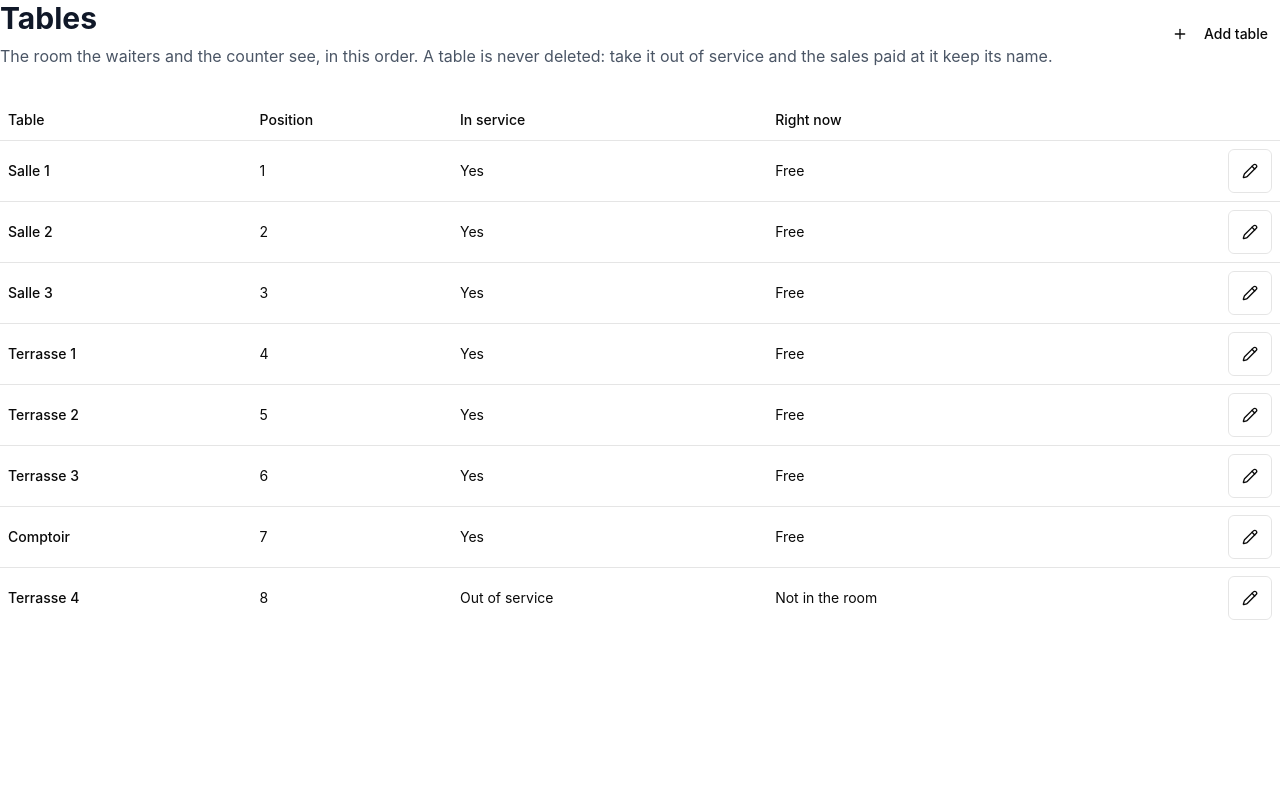
it: the admin’s tables › renames a table, moves it and takes it out of service
expect the text "Salle 1" is shown: met, box [0, 140, 252, 201]
Step 1. Click the button named "Edit Salle 2" → coordinates (1250, 232), box [1228, 210, 1272, 254]
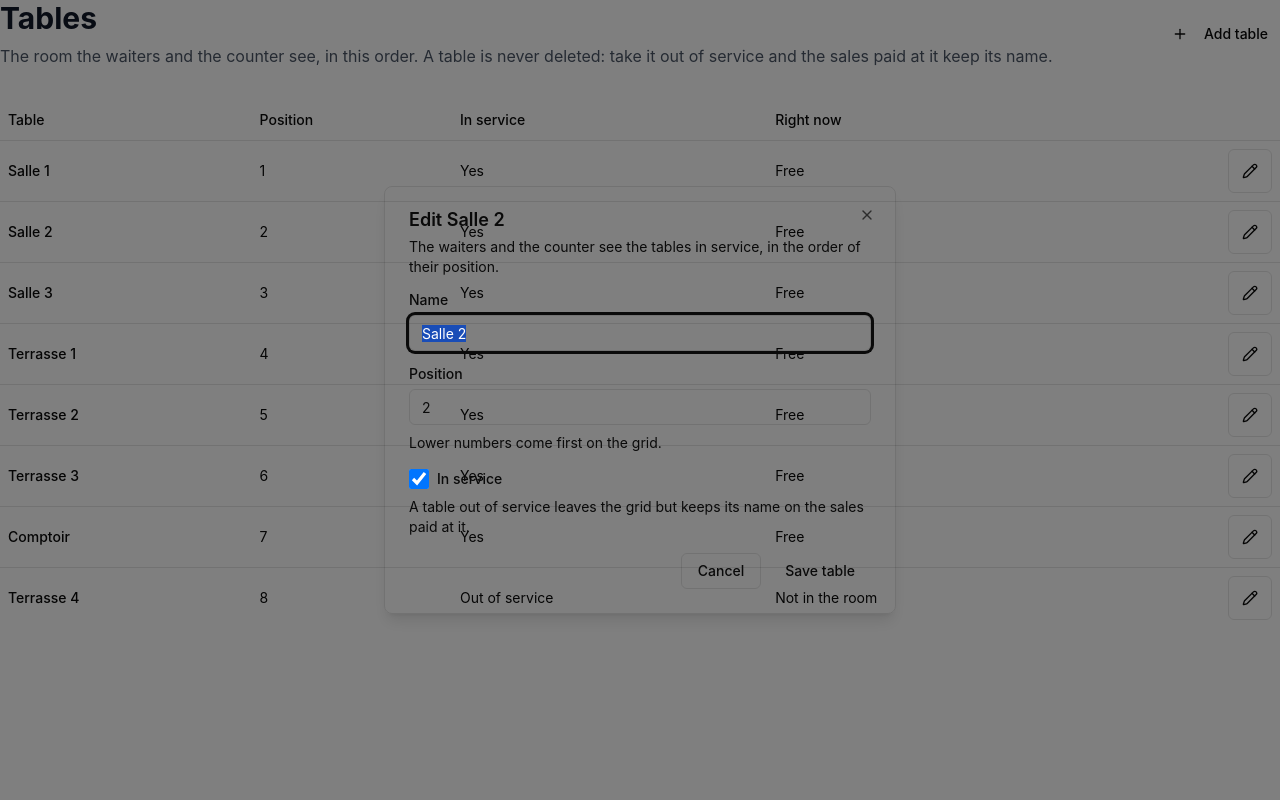
Step 2. Replace the text in the field labelled "Name" with "Mezzanine" → coordinates (640, 333), box [409, 315, 871, 351]
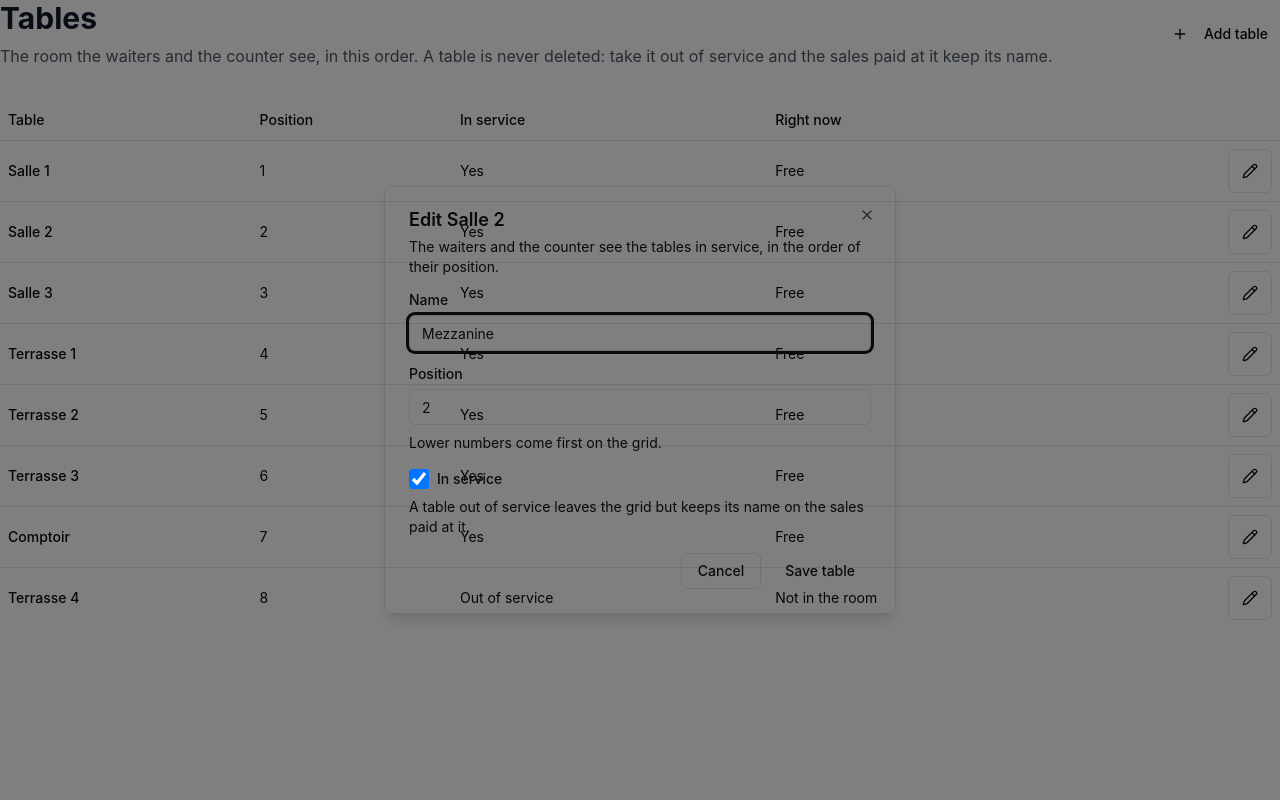
Step 3. Replace the text in the field labelled "Position" with "20" → coordinates (640, 407), box [409, 389, 871, 425]
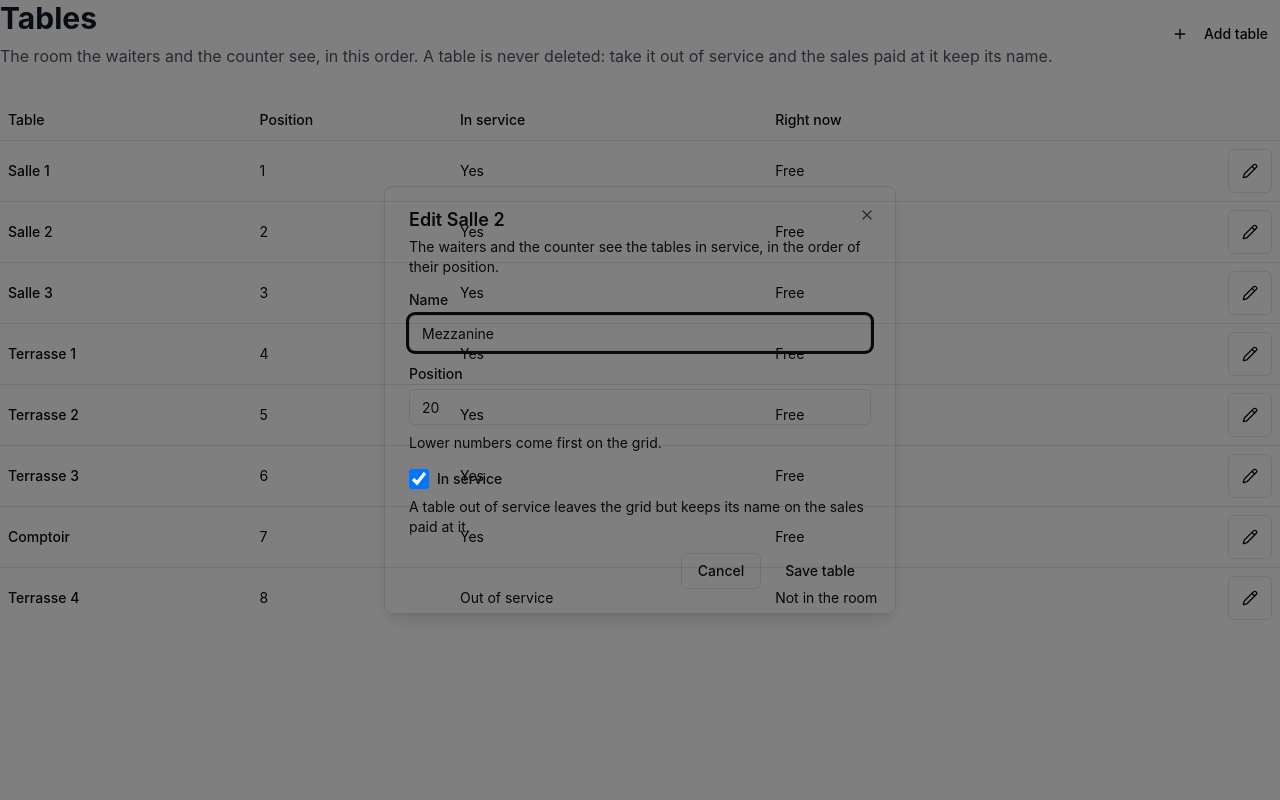
Step 4. Click the checkbox labelled "In service" → coordinates (419, 479), box [409, 469, 429, 489]
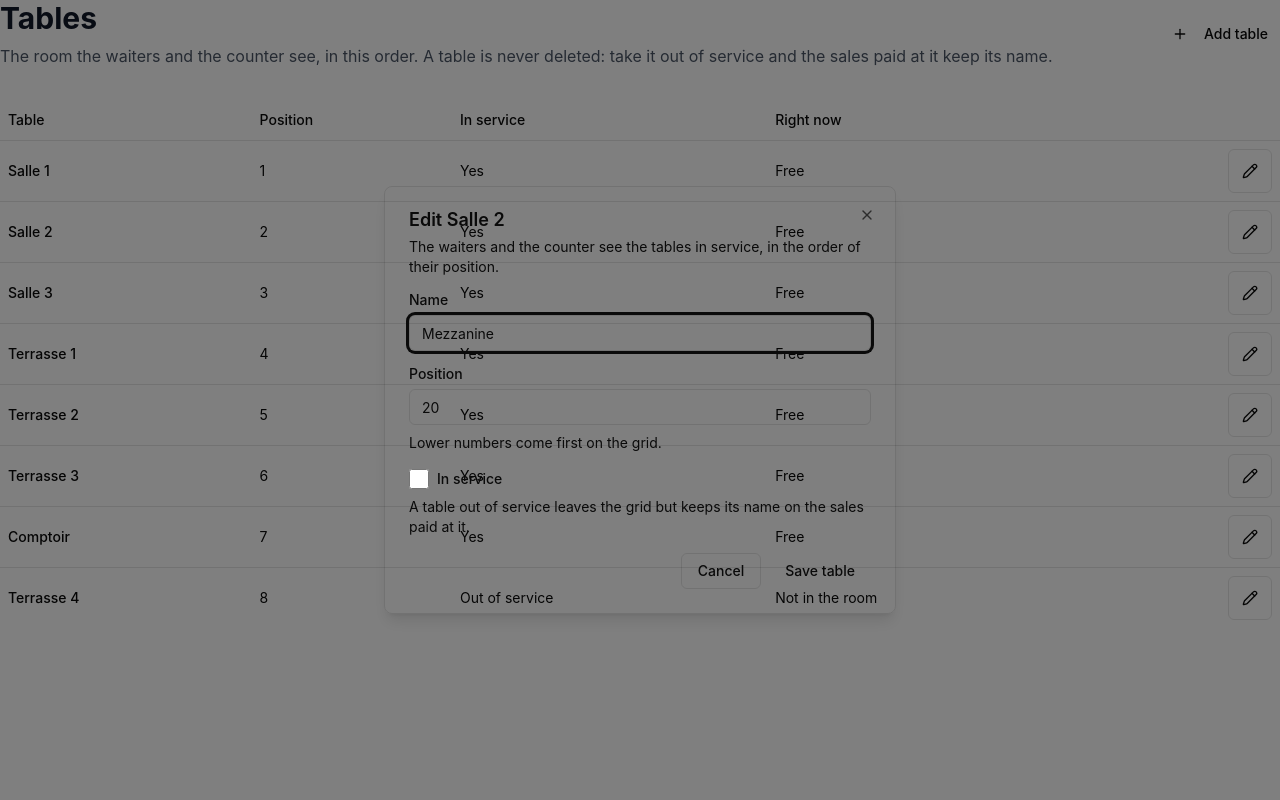
Step 5. Click the button "Save table" → coordinates (820, 571), box [769, 553, 871, 589]
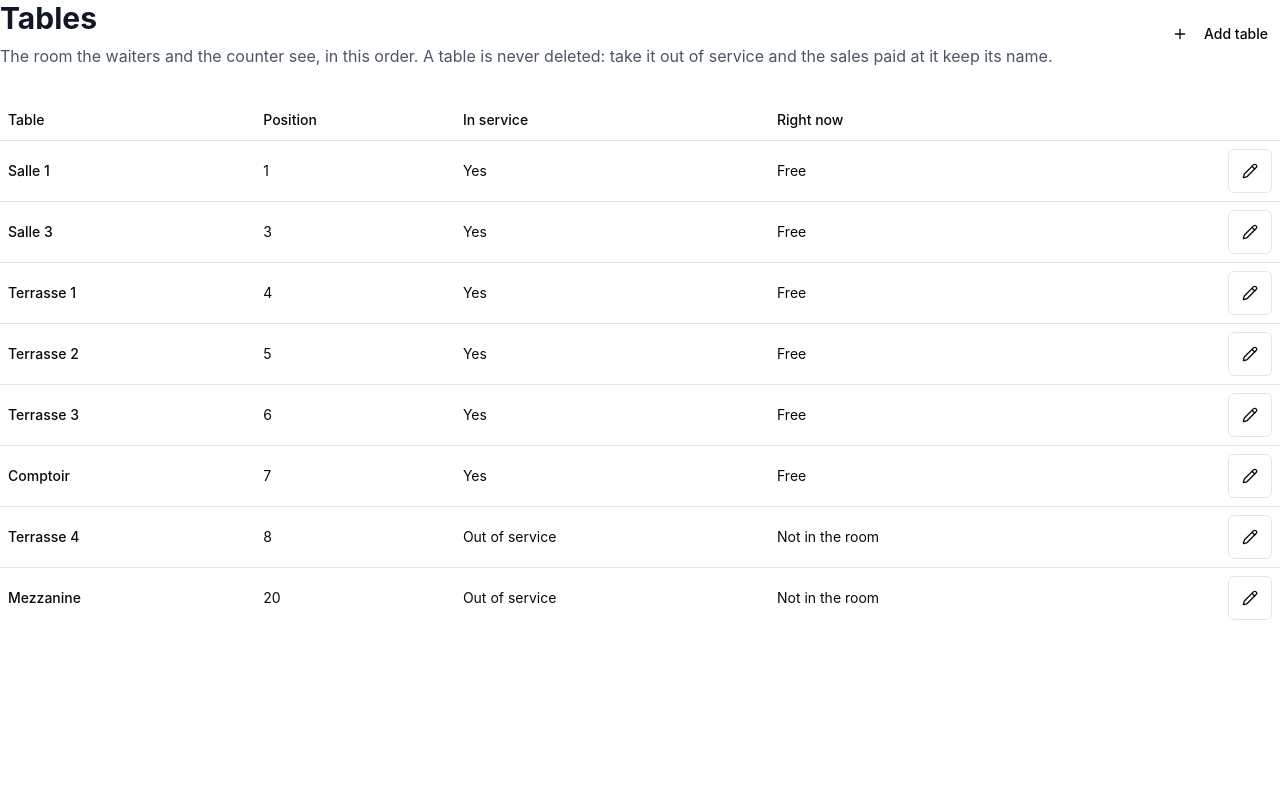
expect the text "Out of service" in the row of "Mezzanine" is shown: met, box [463, 588, 556, 606]
